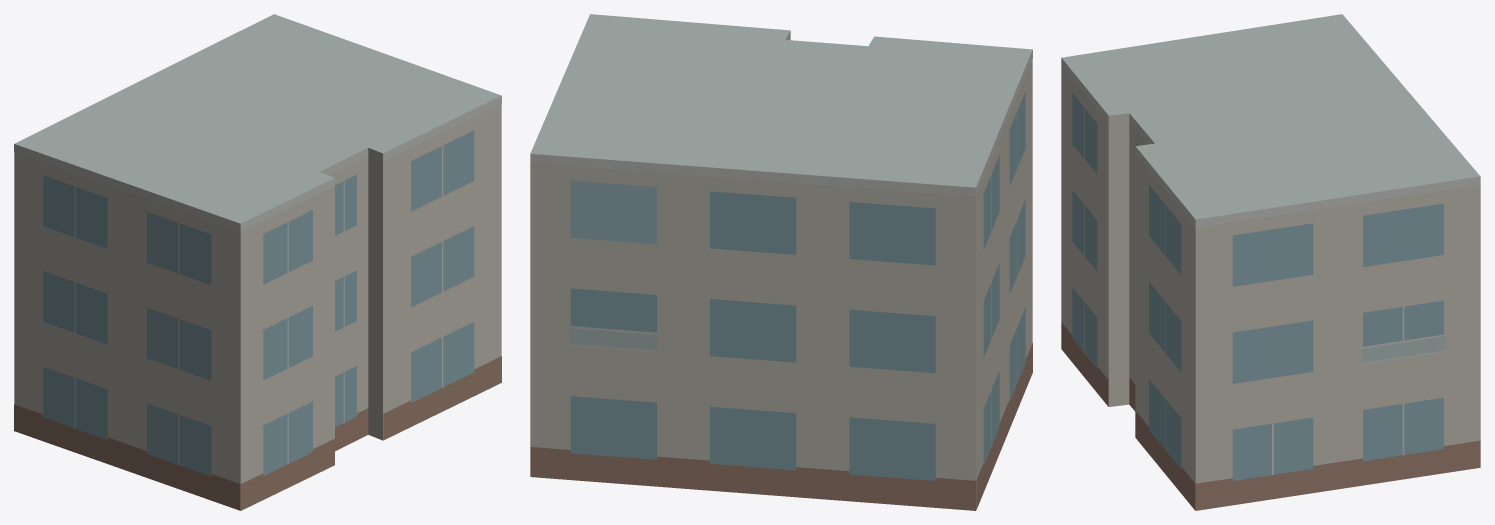
File: survey-upis-32960242.glb
The picture shows the model from 3 angles, left to right: view 1: azimuth 30°, elevation 25°; view 2: azimuth 150°, elevation 25°; view 3: azimuth 270°, elevation 25°; orthographic projection. The views are drawn at different scales.
Parts seen in each view (by area): view 1: survey-upis-32960242.tmp; view 2: survey-upis-32960242.tmp; view 3: survey-upis-32960242.tmp.
Boxes of the visible parts, left/top/right/bottom form: survey-upis-32960242.tmp: left=14, top=14, right=501, bottom=510; survey-upis-32960242.tmp: left=530, top=14, right=1032, bottom=510; survey-upis-32960242.tmp: left=1061, top=14, right=1480, bottom=510.
Bounding box in the file's own units: 13.33 × 8.8 × 11.49.
